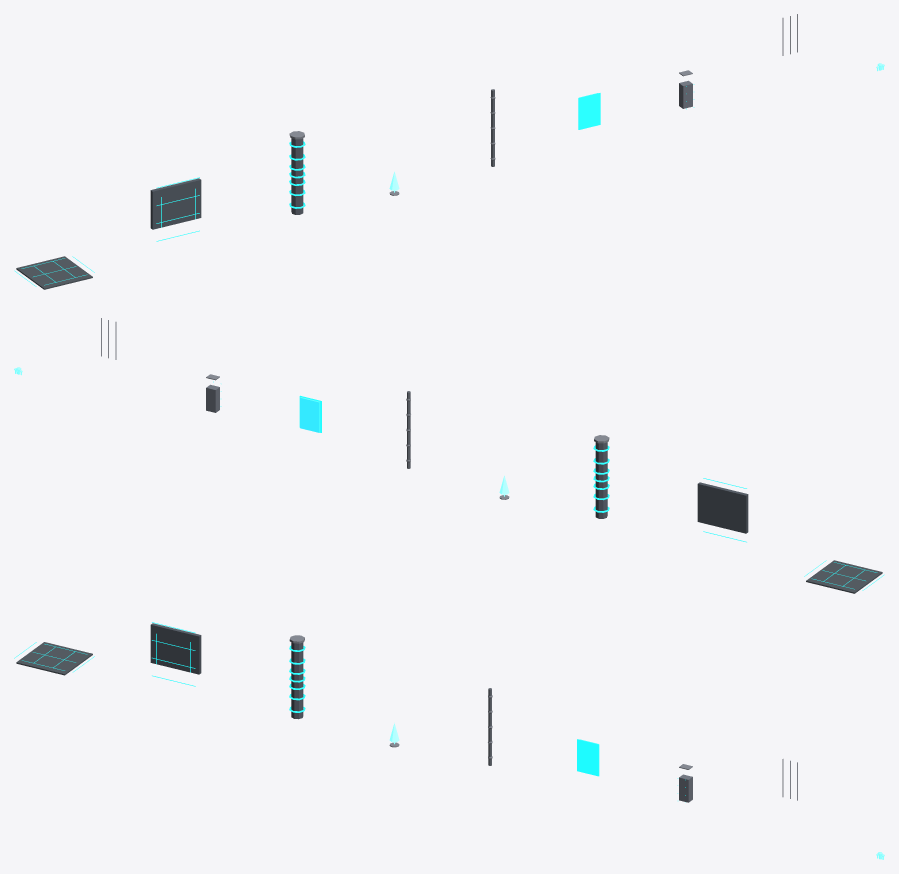
The model's file is dungeon_tiles_v2.glb.
3 views of the same model, one above another, from view 1: azimuth 30°, elevation 25°; view 2: azimuth 150°, elevation 25°; view 3: azimuth 330°, elevation 25° (orthographic).
Parts seen in each view (by area): view 1: WallPanel, FloorTile, TechColumn, DoorFrame; view 2: WallPanel, FloorTile, TechColumn, TechDoor; view 3: WallPanel, FloorTile, TechColumn, DoorFrame.
Part boxes in pixels (x1,y1,x2,y2): WallPanel: (150,178,201,229); FloorTile: (16,256,92,289); TechColumn: (291,138,303,214); DoorFrame: (578,93,600,129); WallPanel: (697,482,748,533); FloorTile: (806,560,882,593); TechColumn: (595,442,607,518); TechDoor: (300,397,320,432); WallPanel: (150,623,201,674); FloorTile: (16,642,92,675); TechColumn: (291,642,303,719); DoorFrame: (577,739,599,776).
Bounding box in the file's own units: 35.4 × 3.27 × 2.
